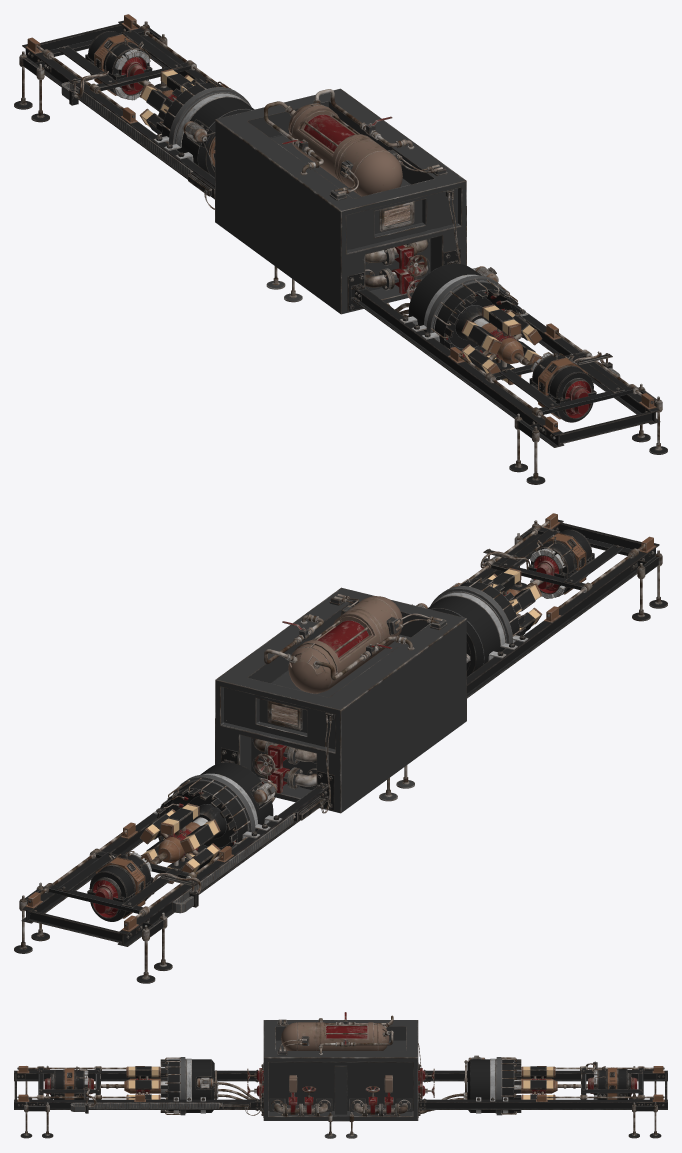
3 views of the same model, one above another, from view 1: azimuth 30°, elevation 25°; view 2: azimuth 150°, elevation 25°; view 3: azimuth 270°, elevation 25° (orthographic). The views are drawn at different scales.
Visible parts, largest first — view 1: part1a, part2a_part2_0, part3a_part2_0 (×2); view 2: part1a, part3a_part2_0 (×2), part2a_part2_0; view 3: part1a, part2a_part2_0 (×2), part3a_part2_0.
Boxes of the visible parts, box(x1,y1,x2,y2) form: part1a: box(215, 88, 466, 314); part2a_part2_0: box(347, 189, 667, 484); part3a_part2_0 (×2): box(14, 14, 254, 209); part1a: box(215, 587, 466, 813); part3a_part2_0 (×2): box(14, 712, 334, 983); part2a_part2_0: box(427, 513, 667, 698); part1a: box(247, 1012, 434, 1138); part2a_part2_0 (×2): box(14, 1057, 263, 1138); part3a_part2_0: box(418, 1043, 667, 1138).
Size of the model in its own units: 75.82 by 77.88 by 491.
2 materials, 2 textured.
